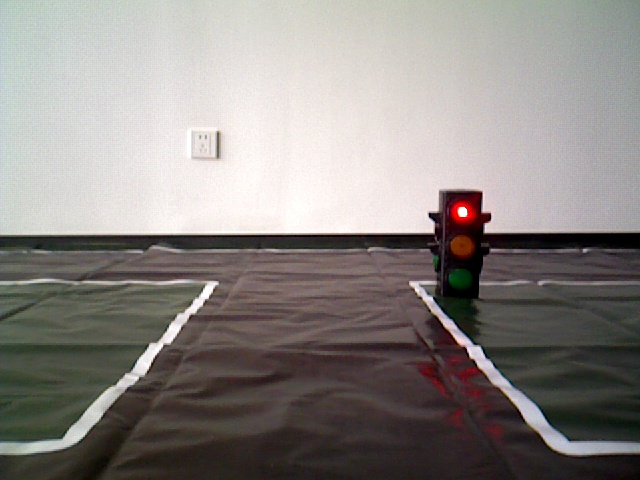red: (442, 193, 478, 293)
